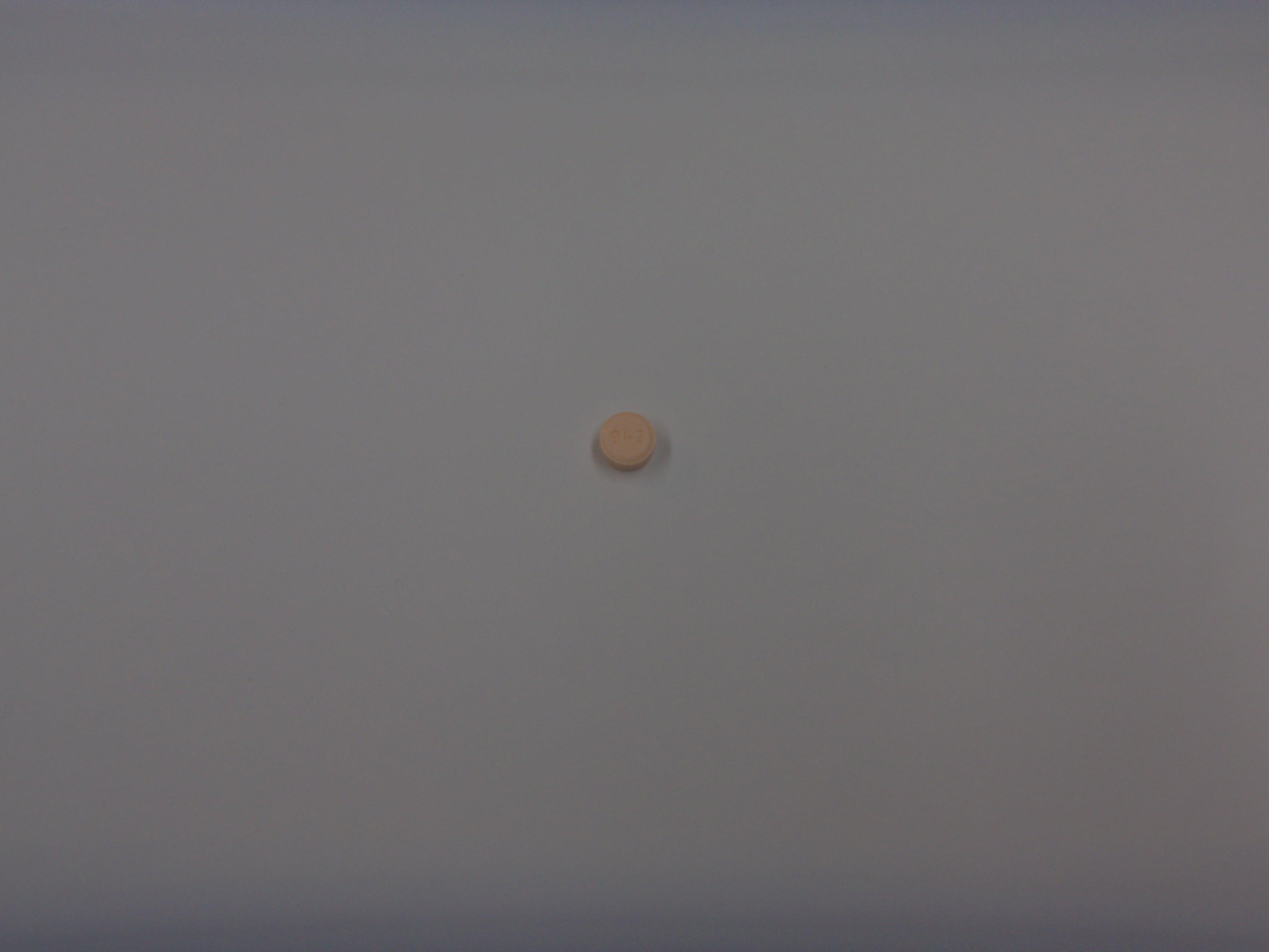Pill: (589, 406, 664, 479)
